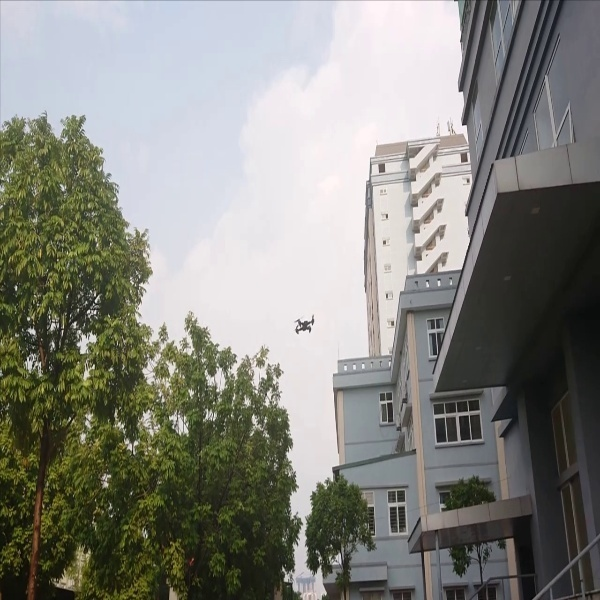drone: (286, 305, 327, 348)
